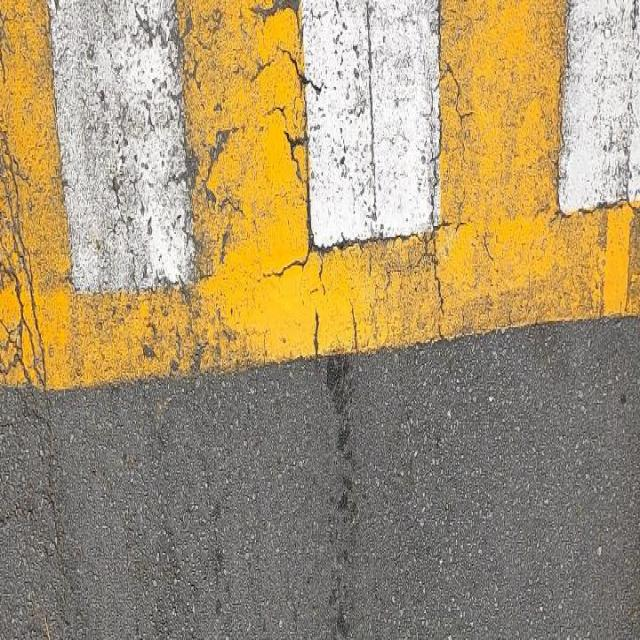cracks: (239, 8, 335, 374), (410, 16, 494, 336), (0, 32, 41, 618)
